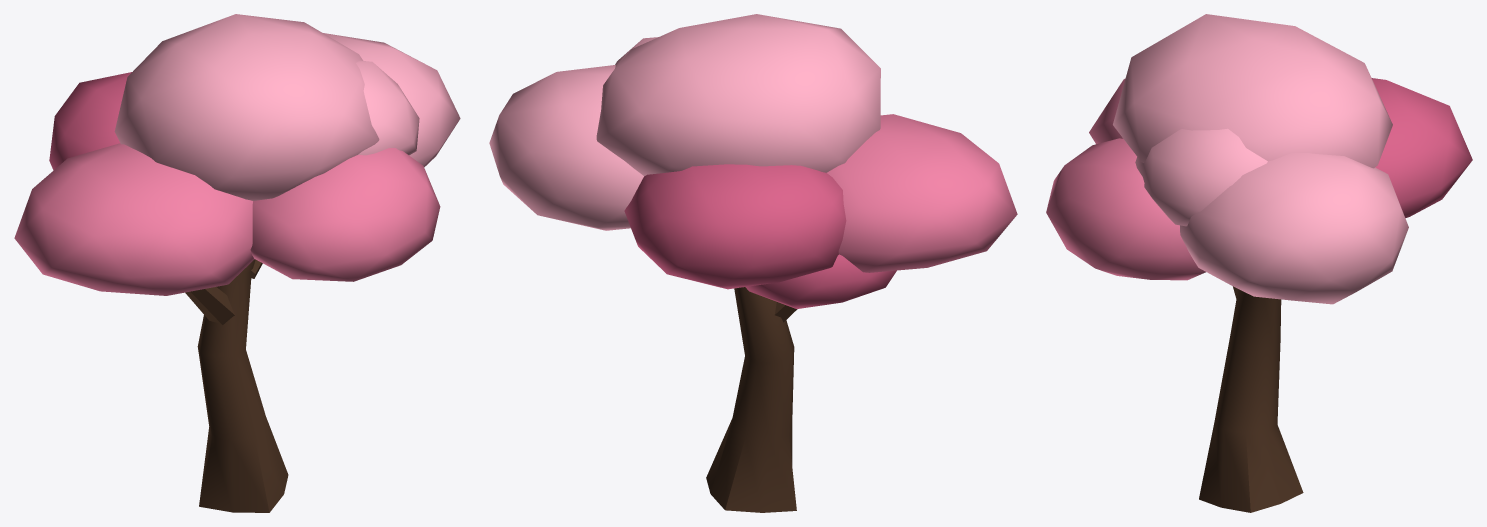
File: tree-blossom.glb
3 renders of one model, left to right at view 1: azimuth 30°, elevation 25°; view 2: azimuth 150°, elevation 25°; view 3: azimuth 270°, elevation 25°, orthographic. The views are drawn at different scales.
Visible parts, largest first — view 1: Part_BlossomMid, Part_BlossomLight, Part_BarkDark, Part_BlossomDeep; view 2: Part_BlossomLight, Part_BlossomDeep, Part_BlossomMid, Part_BarkDark; view 3: Part_BlossomLight, Part_BlossomMid, Part_BarkDark, Part_BlossomDeep.
Part boxes in pixels (left/top/right/bottom): Part_BlossomMid: left=14, top=143, right=440, bottom=295; Part_BlossomLight: left=114, top=14, right=460, bottom=201; Part_BarkDark: left=185, top=259, right=288, bottom=512; Part_BlossomDeep: left=49, top=72, right=131, bottom=170; Part_BlossomLight: left=489, top=14, right=880, bottom=230; Part_BlossomDeep: left=624, top=164, right=896, bottom=308; Part_BlossomMid: left=827, top=114, right=1017, bottom=272; Part_BarkDark: left=706, top=287, right=797, bottom=512; Part_BlossomLight: left=1113, top=14, right=1408, bottom=304; Part_BlossomMid: left=1046, top=78, right=1205, bottom=280; Part_BarkDark: left=1199, top=286, right=1303, bottom=512; Part_BlossomDeep: left=1372, top=78, right=1472, bottom=217.
Bounding box in the file's own units: 4.92 × 4.87 × 4.05.
